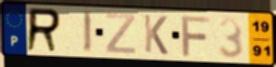3: (217, 16, 245, 60)
F: (179, 14, 212, 58)
I: (81, 9, 93, 55)
K: (142, 13, 170, 57)
R: (24, 6, 63, 54)
Z: (104, 12, 137, 56)
